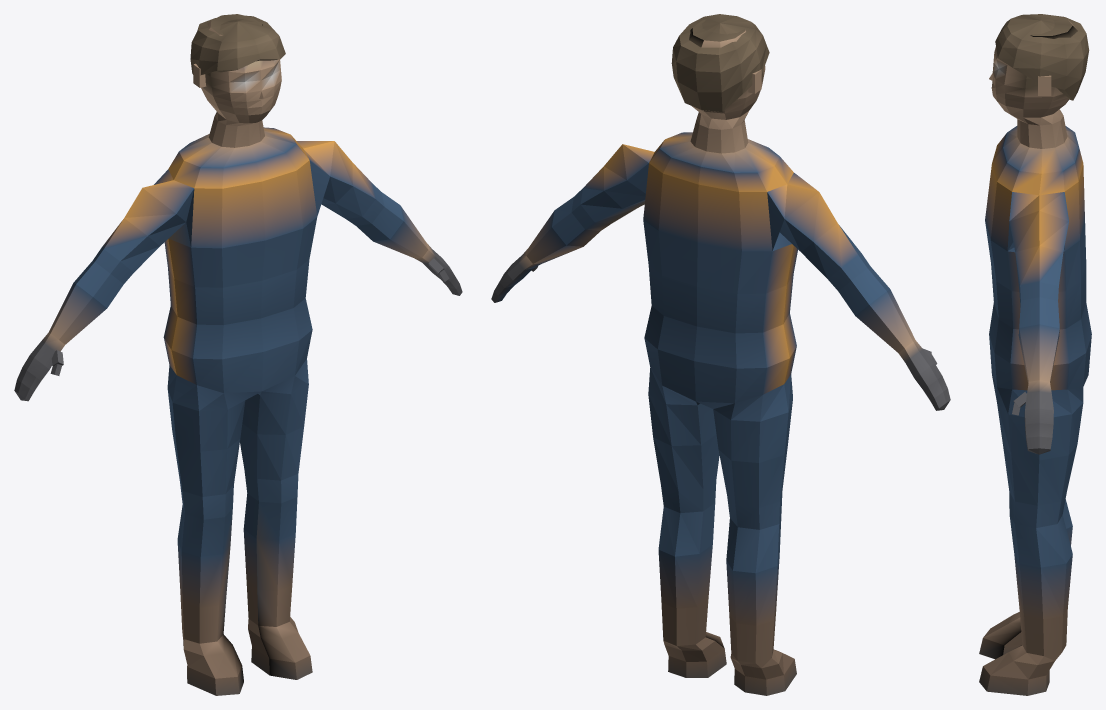
File: char__pessoa__multidao_08.glb
3 views of the same model, side by side, from view 1: azimuth 30°, elevation 25°; view 2: azimuth 150°, elevation 25°; view 3: azimuth 270°, elevation 25° (orthographic). The views are drawn at different scales.
Parts seen in each view (by area): view 1: char__pessoa__multidao_08; view 2: char__pessoa__multidao_08; view 3: char__pessoa__multidao_08.
Boxes of the visible parts, x1,y1,x2,y2 form: char__pessoa__multidao_08: [14, 14, 462, 695]; char__pessoa__multidao_08: [491, 14, 950, 695]; char__pessoa__multidao_08: [979, 14, 1091, 695].
Size of the model in its own units: 1.3 by 1.82 by 0.2854.
